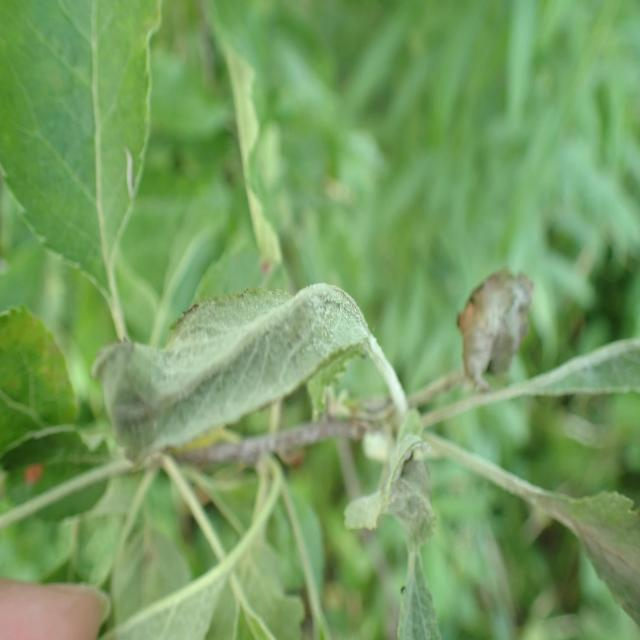Powdery_mildew: (79, 267, 399, 493), (516, 426, 640, 640), (502, 317, 640, 426)
